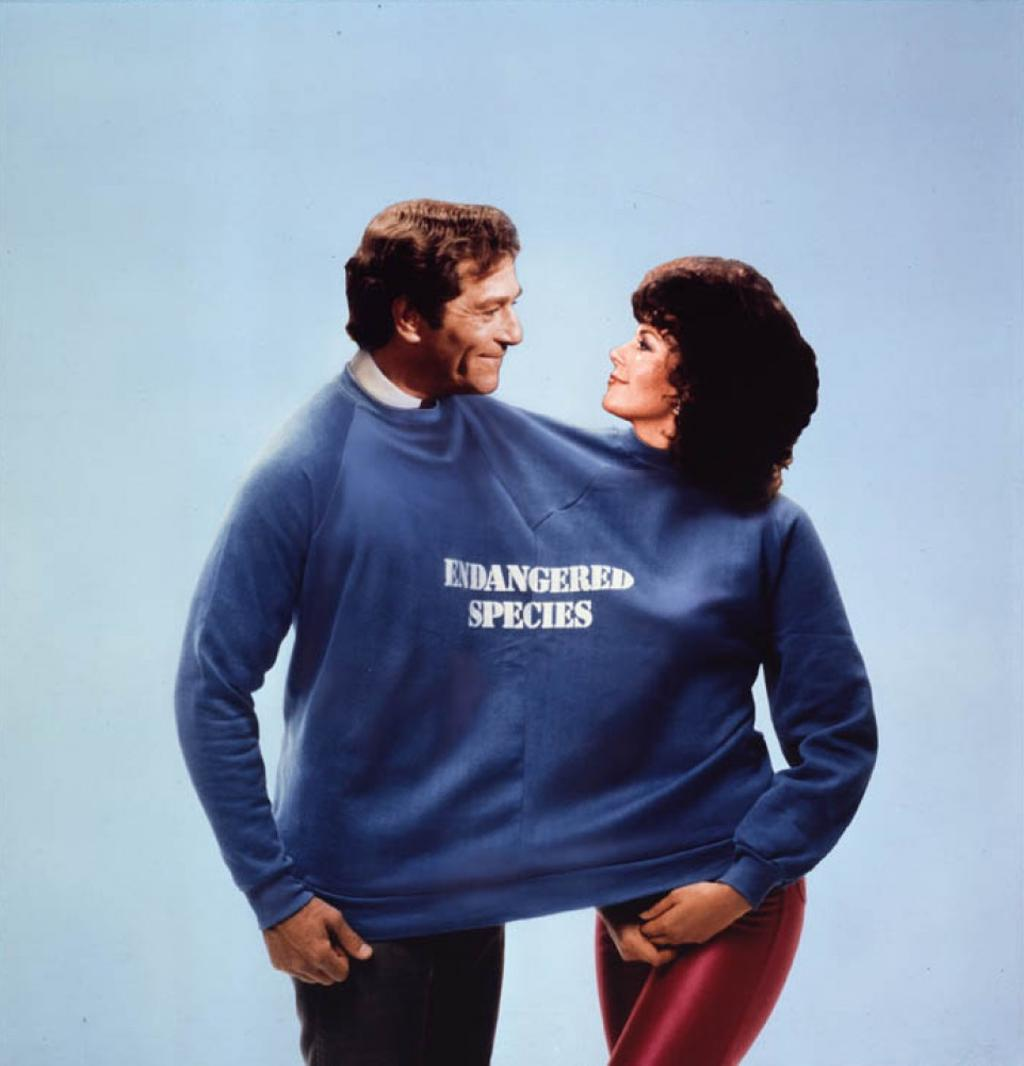face: (601, 304, 701, 414), (450, 256, 527, 395)
